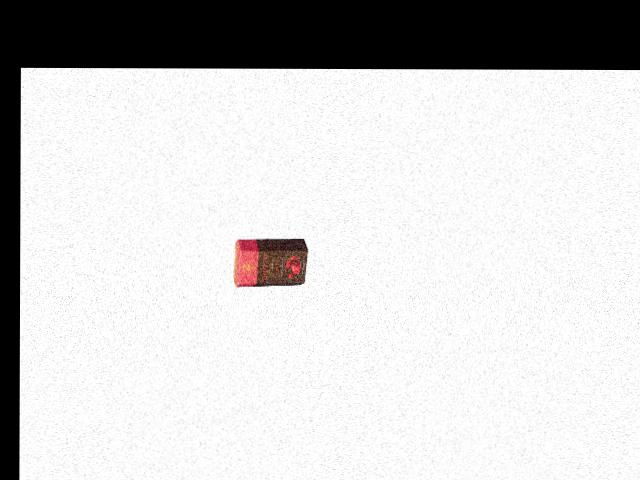chocolate: (231, 236, 314, 288)
